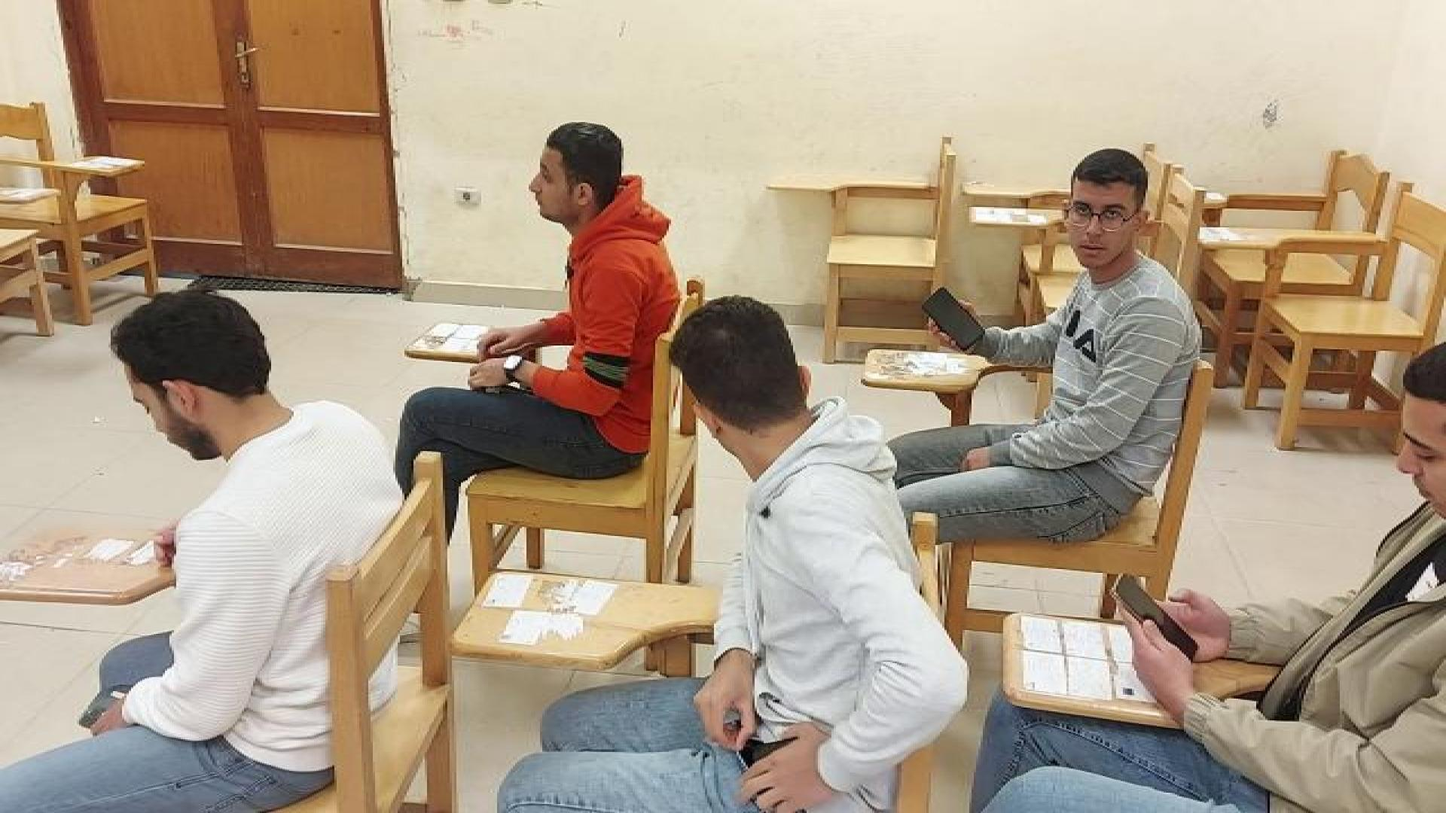phone: (1110, 573, 1196, 645), (916, 289, 986, 346)
